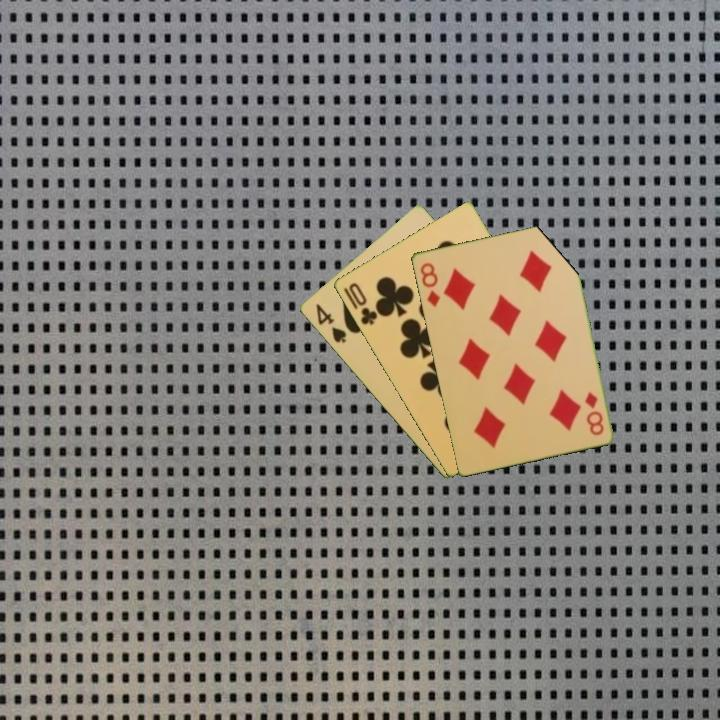10c: (345, 279, 380, 328)
4s: (312, 300, 349, 346)
8d: (416, 259, 443, 310), (581, 388, 606, 438)
